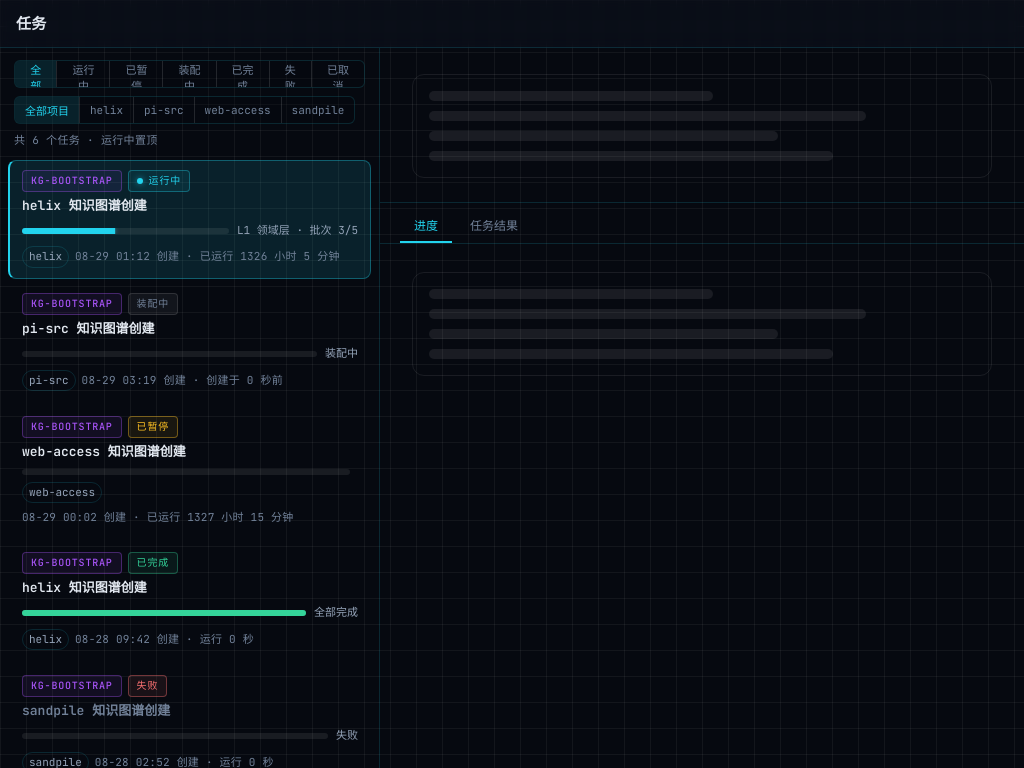
Scenario: P-2 TasksPage：阶段条 + 批次 plan + 任务结果 › 无产物 → 结果 tab 空态
Click the button "任务结果".
click(494, 226)  # box 456,209 -> 532,243
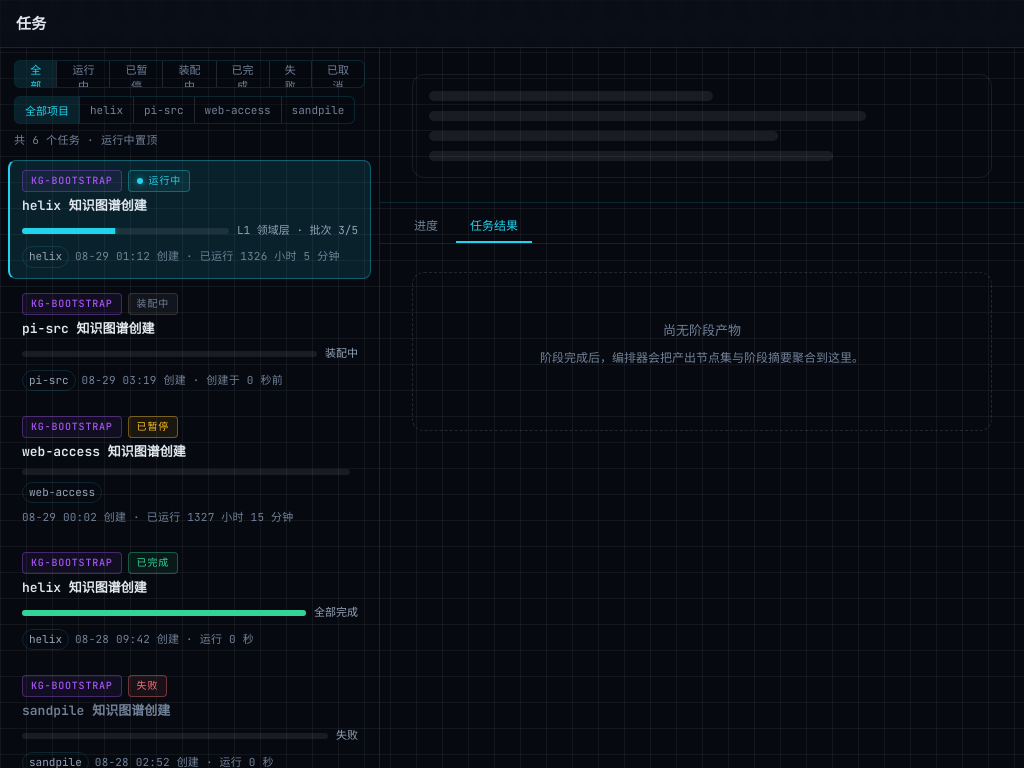
Check: the element showing "尚无阶段产物 阶段完成后，编排器会把产出节点集与阶段摘要聚合到这里。" is shown, box 412,272 -> 992,431
